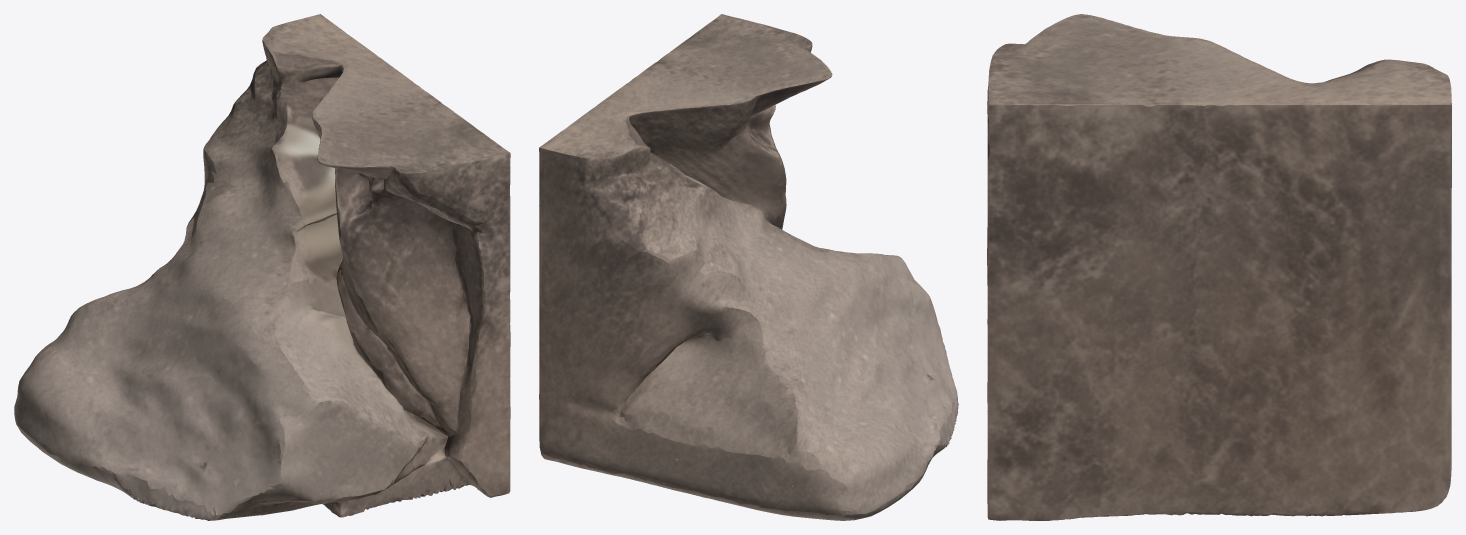
3 views of the same model, side by side, from view 1: azimuth 30°, elevation 25°; view 2: azimuth 150°, elevation 25°; view 3: azimuth 270°, elevation 25° (orthographic). The views are drawn at different scales.
Parts seen in each view (by area): view 1: world; view 2: world; view 3: world.
Part boxes in pixels (<box>): world: <box>14,14,510,520</box>; world: <box>539,14,958,520</box>; world: <box>987,14,1451,520</box>.
Bounding box in the file's own units: 0.8 × 0.7914 × 0.7993.
1 material, 1 textured.
